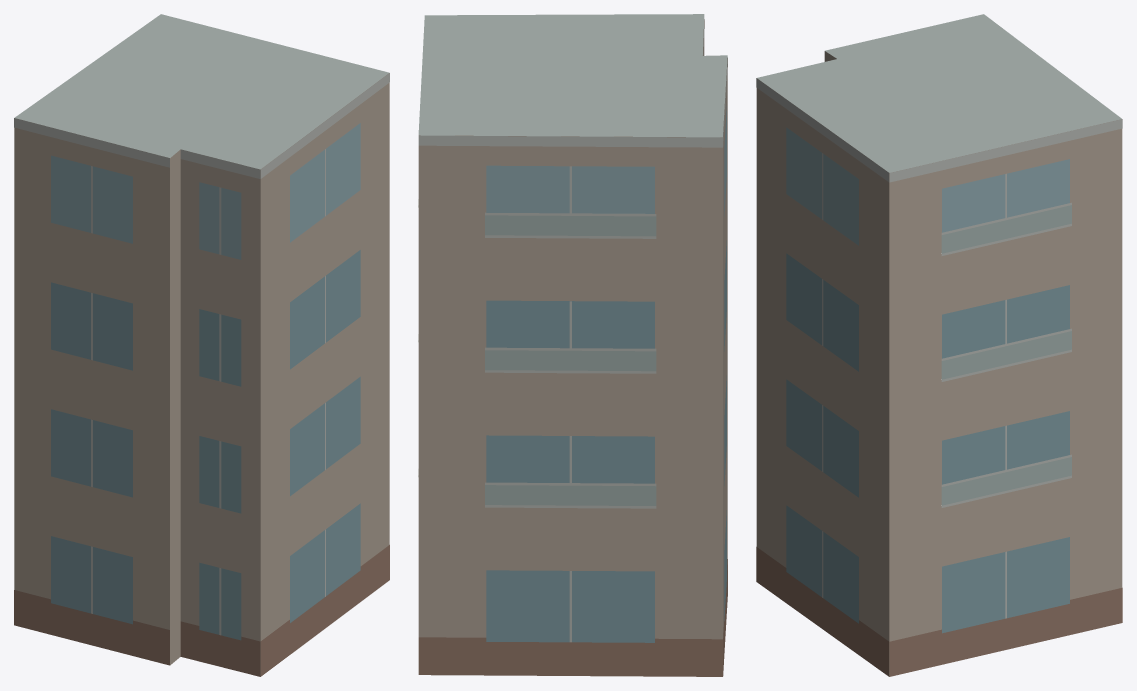
Rendered from survey-upis-32496673.glb.
3 renders of one model, left to right at view 1: azimuth 30°, elevation 25°; view 2: azimuth 150°, elevation 25°; view 3: azimuth 270°, elevation 25°, orthographic. The views are drawn at different scales.
Parts seen in each view (by area): view 1: survey-upis-32496673.tmp; view 2: survey-upis-32496673.tmp; view 3: survey-upis-32496673.tmp.
Boxes of the visible parts, box(x1,y1,x2,y2) form: survey-upis-32496673.tmp: box(14, 14, 389, 676); survey-upis-32496673.tmp: box(418, 14, 727, 676); survey-upis-32496673.tmp: box(756, 14, 1122, 676).
Bounding box in the file's own units: 8.67 × 12.8 × 8.43.
